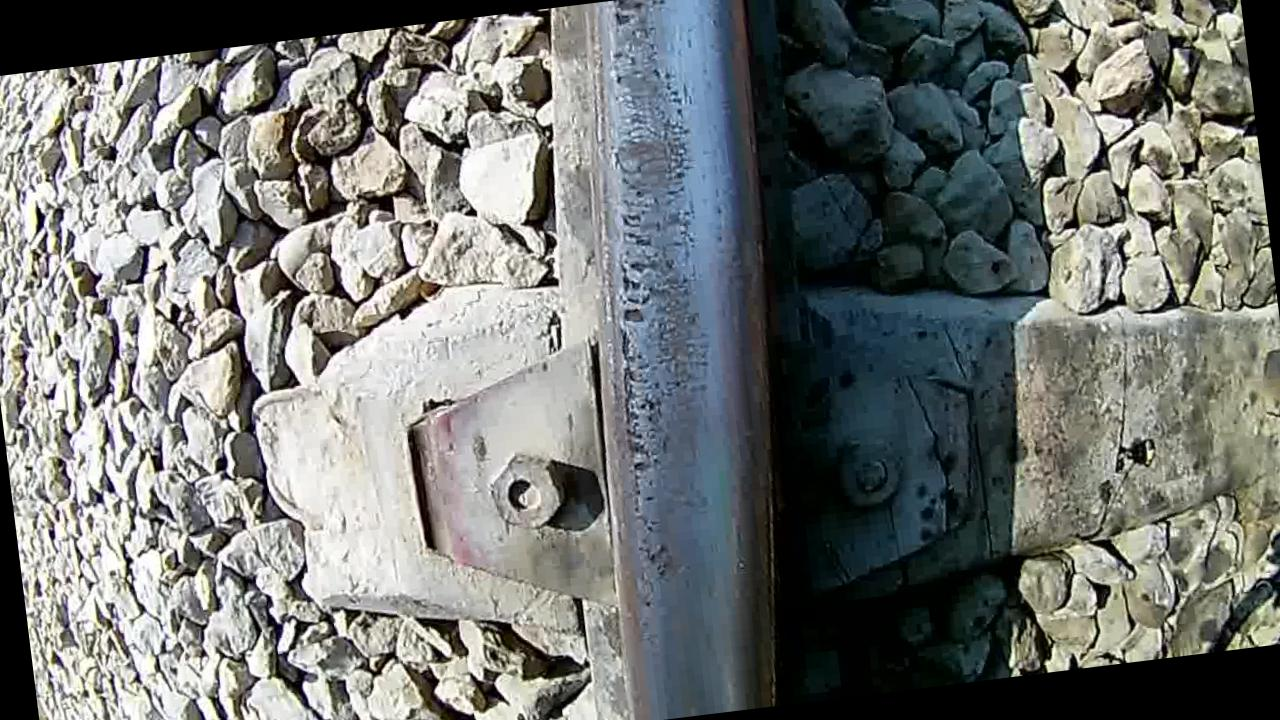crack: (555, 0, 823, 720)
